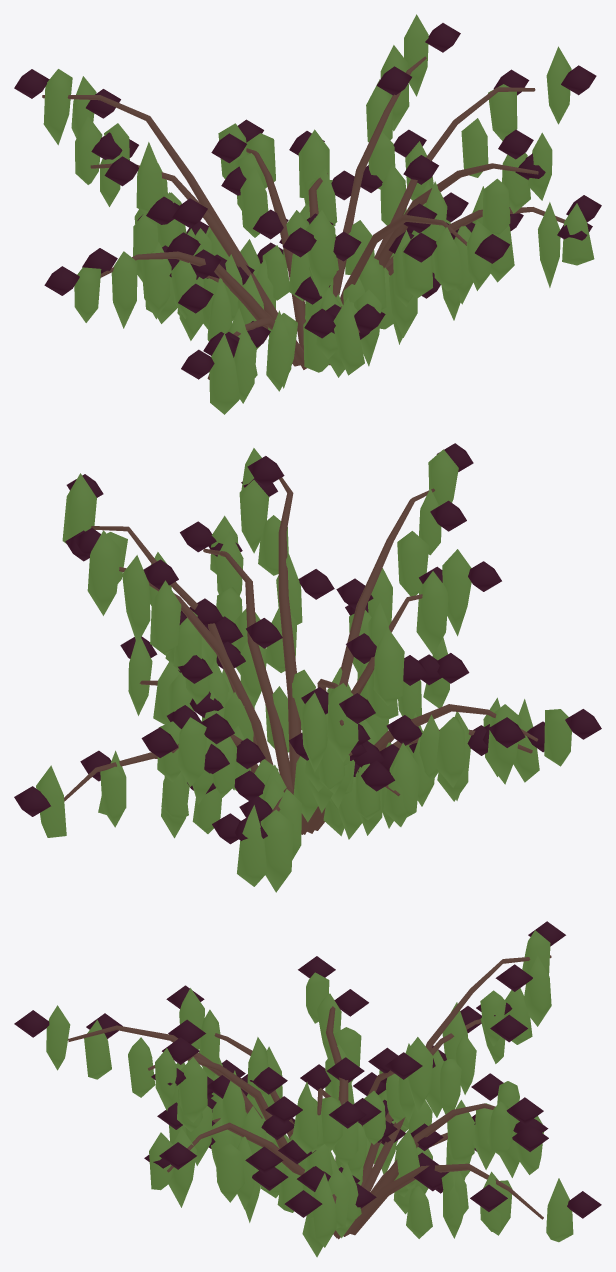
The model's file is Blender_SandCherry_1.glb.
The picture shows the model from 3 angles, top to bottom: view 1: azimuth 30°, elevation 25°; view 2: azimuth 150°, elevation 25°; view 3: azimuth 270°, elevation 25°; orthographic projection. The views are drawn at different scales.
Visible parts, largest first — view 1: Blender_SandCherry_1; view 2: Blender_SandCherry_1; view 3: Blender_SandCherry_1.
Part boxes in pixels (<box>): Blender_SandCherry_1: <box>14,14,601,414</box>; Blender_SandCherry_1: <box>14,443,601,892</box>; Blender_SandCherry_1: <box>14,921,601,1257</box>.
Size of the model in its own units: 1.64 by 0.8257 by 1.68.
